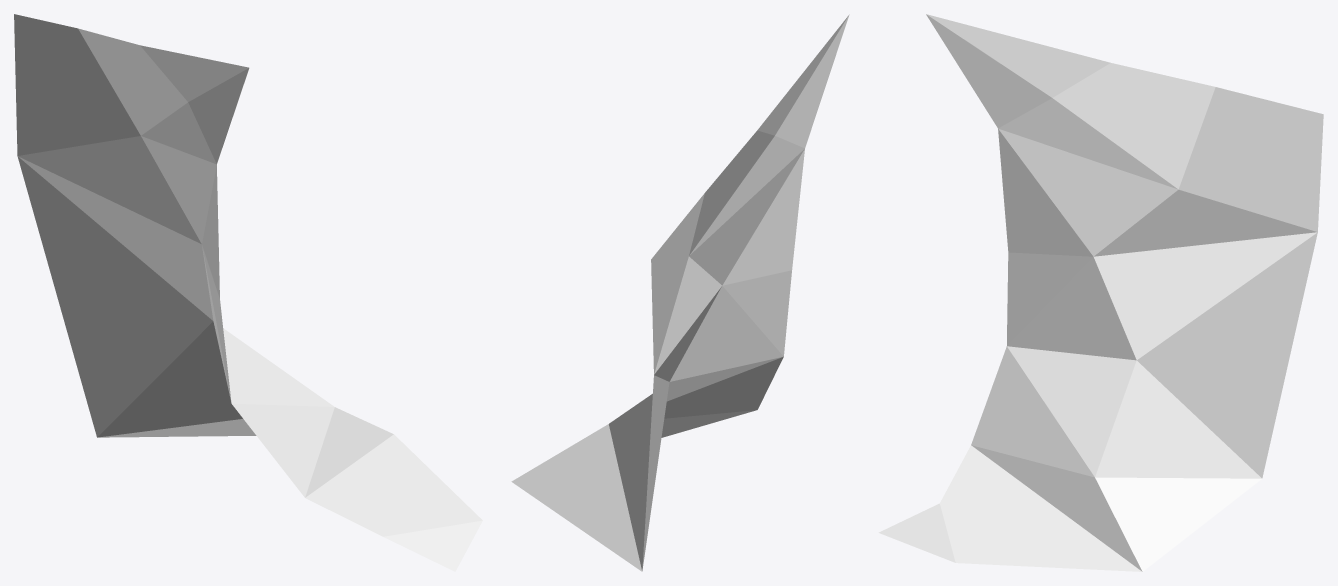
The model's file is SM_Env_SpiderWeb_03.fbx.
3 renders of one model, left to right at view 1: azimuth 30°, elevation 25°; view 2: azimuth 150°, elevation 25°; view 3: azimuth 270°, elevation 25°, orthographic. The views are drawn at different scales.
Parts seen in each view (by area): view 1: SM_Env_SpiderWeb_03; view 2: SM_Env_SpiderWeb_03; view 3: SM_Env_SpiderWeb_03.
Boxes of the visible parts, x1,y1,x2,y2 form: SM_Env_SpiderWeb_03: (14, 14, 482, 571); SM_Env_SpiderWeb_03: (511, 14, 849, 571); SM_Env_SpiderWeb_03: (878, 14, 1323, 571).
Size of the model in its own units: 63.44 by 117 by 106.
